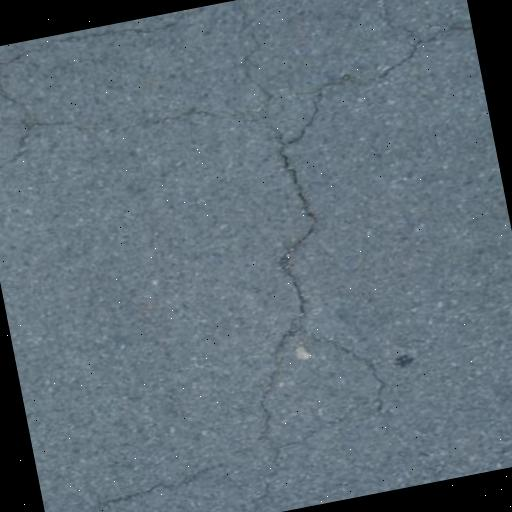spalling: (229, 11, 462, 512), (278, 320, 400, 467)
